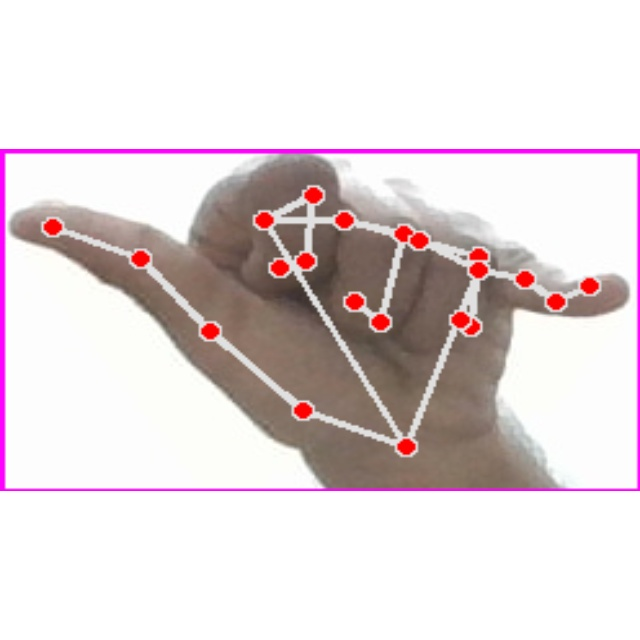Y: (0, 149, 640, 491)
